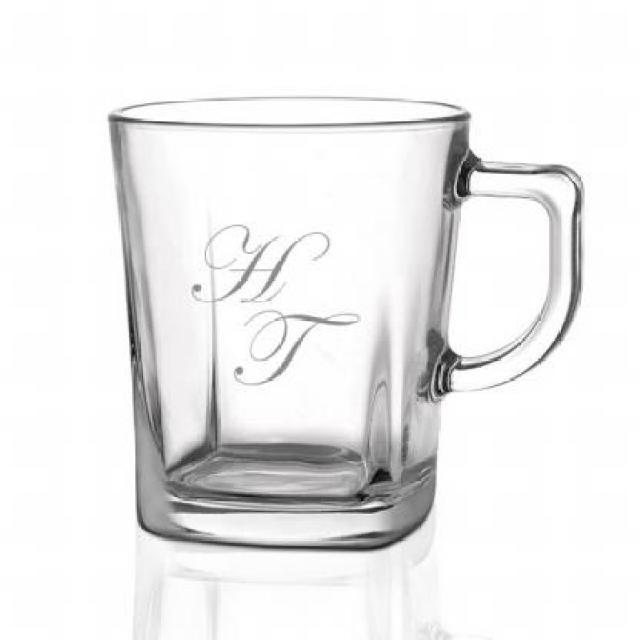taza: (98, 81, 595, 564)
